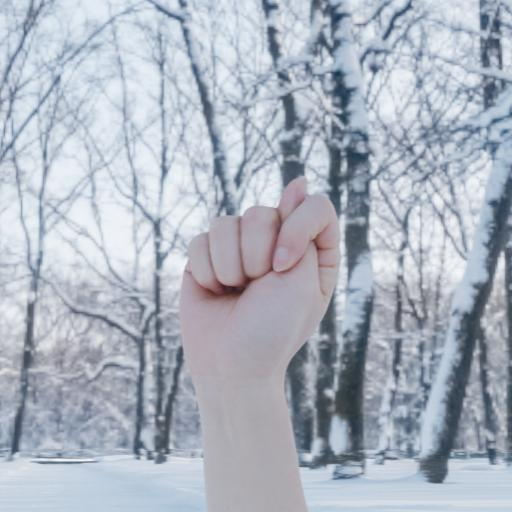T: (175, 171, 347, 375)
